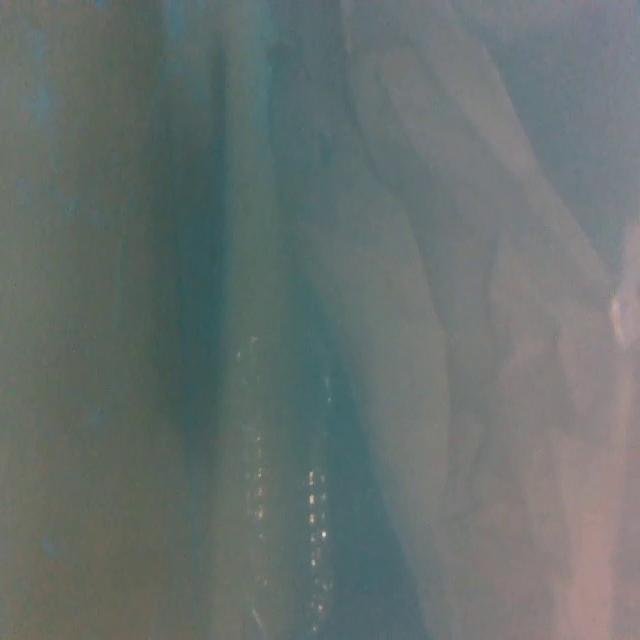plastic bags: (264, 0, 640, 632)
plastic bottle: (225, 315, 334, 640)
